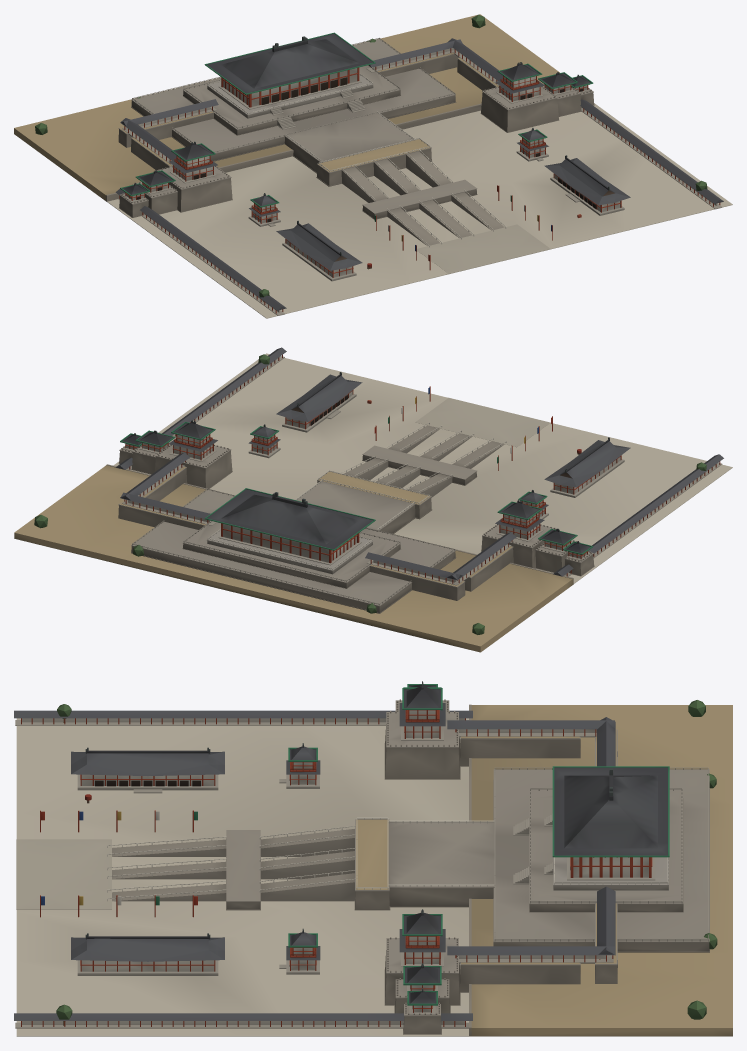
The model's file is hanyuan-hall.glb.
The picture shows the model from 3 angles, top to bottom: view 1: azimuth 30°, elevation 25°; view 2: azimuth 150°, elevation 25°; view 3: azimuth 270°, elevation 25°; orthographic projection. The views are drawn at different scales.
Parts seen in each view (by area): view 1: p0_terraces, p1_halls, p2_trees; view 2: p0_terraces, p1_halls, p2_trees; view 3: p0_terraces, p1_halls, p2_trees.
Boxes of the visible parts, bbox=[...] form: p0_terraces: bbox=[14, 14, 732, 318]; p1_halls: bbox=[115, 38, 723, 315]; p2_trees: bbox=[35, 14, 707, 301]; p0_terraces: bbox=[14, 353, 732, 652]; p1_halls: bbox=[115, 347, 723, 585]; p2_trees: bbox=[34, 354, 706, 634]; p0_terraces: bbox=[16, 699, 732, 1036]; p1_halls: bbox=[14, 710, 655, 1028]; p2_trees: bbox=[40, 681, 717, 1025].
Size of the model in its own units: 320 by 44.85 by 301.
